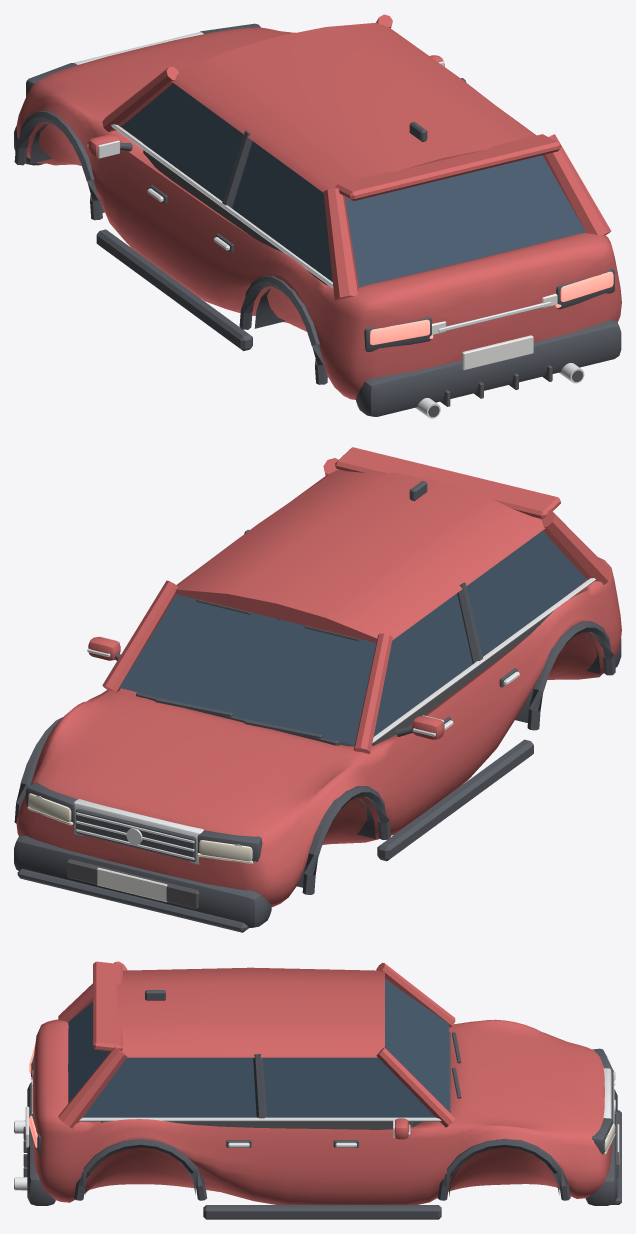
The model's file is Car_Hatchback.fbx.
3 renders of one model, top to bottom at view 1: azimuth 30°, elevation 25°; view 2: azimuth 150°, elevation 25°; view 3: azimuth 270°, elevation 25°, orthographic. The views are drawn at different scales.
Parts seen in each view (by area): view 1: Car_Hatchback, Car_Taillights; view 2: Car_Hatchback, Car_Headlights; view 3: Car_Hatchback.
Boxes of the visible parts, bbox=[...] form: Car_Hatchback: bbox=[14, 14, 621, 418]; Car_Taillights: bbox=[370, 271, 613, 345]; Car_Hatchback: bbox=[14, 447, 621, 932]; Car_Headlights: bbox=[27, 793, 253, 864]; Car_Hatchback: bbox=[14, 961, 621, 1219].
Bounding box in the file's own units: 2.2 × 1.27 × 4.08.
